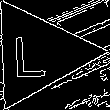L_N: (19, 28, 57, 79)
